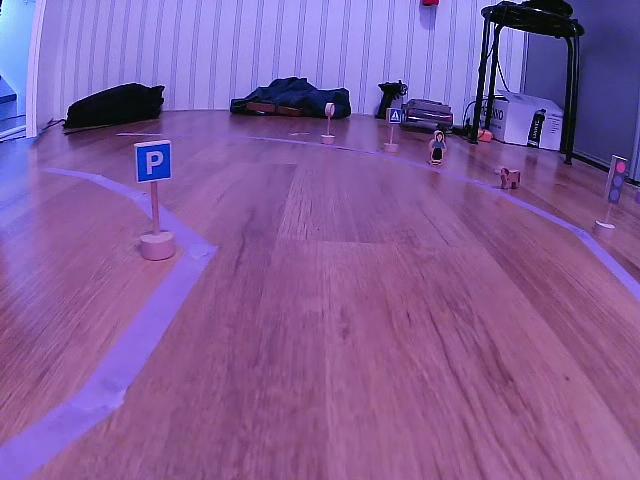mens: (428, 130, 446, 167)
paard: (494, 165, 524, 191)
parkeerbord: (133, 141, 172, 181)
roodlicht: (607, 154, 626, 206)
zebrapad: (387, 107, 401, 125)
